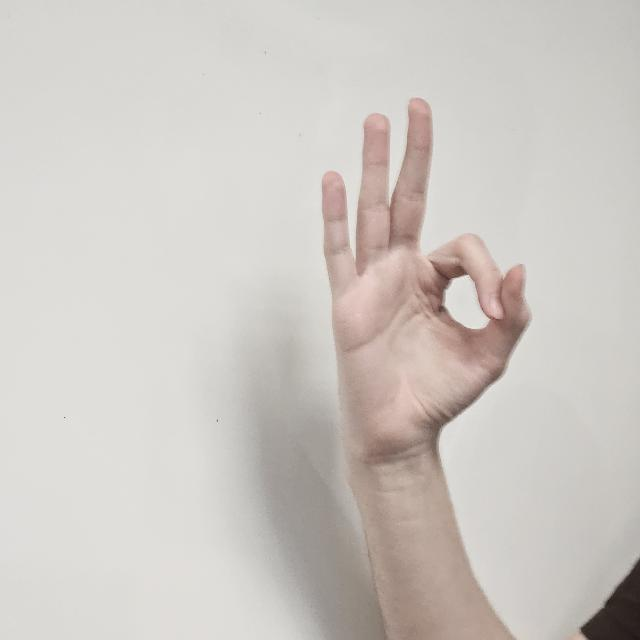Bolinha: (314, 98, 530, 456)
